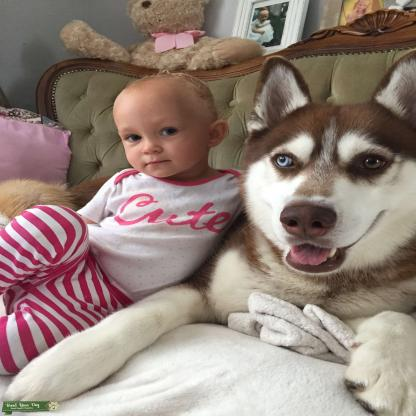husky: (6, 53, 416, 415)
